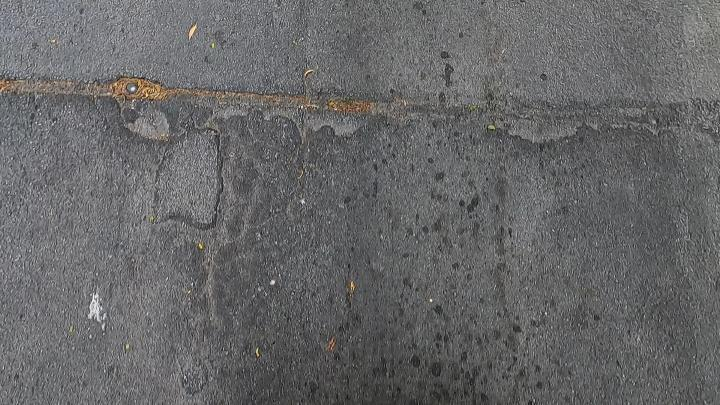Crack: (0, 67, 720, 146), (0, 77, 719, 148)
